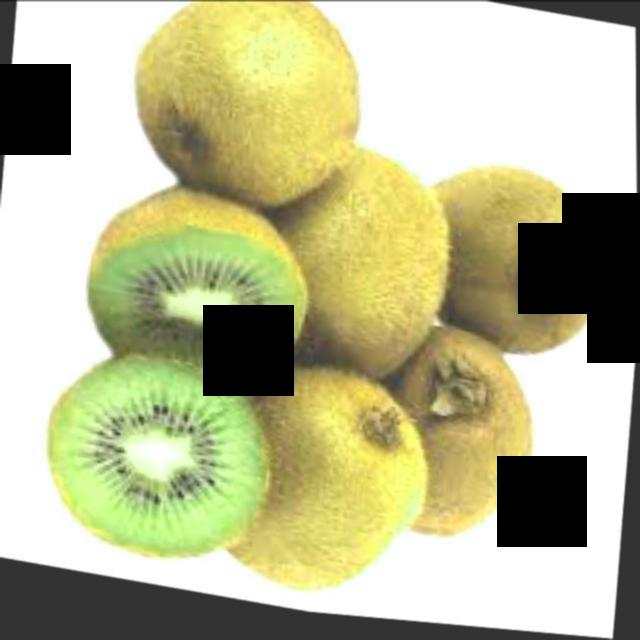kiwi: (26, 341, 286, 590), (55, 163, 321, 385), (108, 2, 370, 208), (395, 348, 594, 599), (272, 369, 449, 627), (425, 159, 621, 378), (300, 145, 462, 387)
